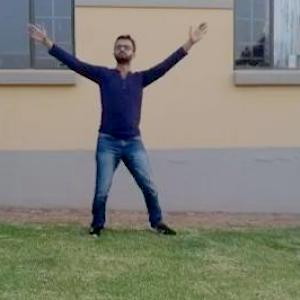takeoff: (37, 17, 229, 263)
